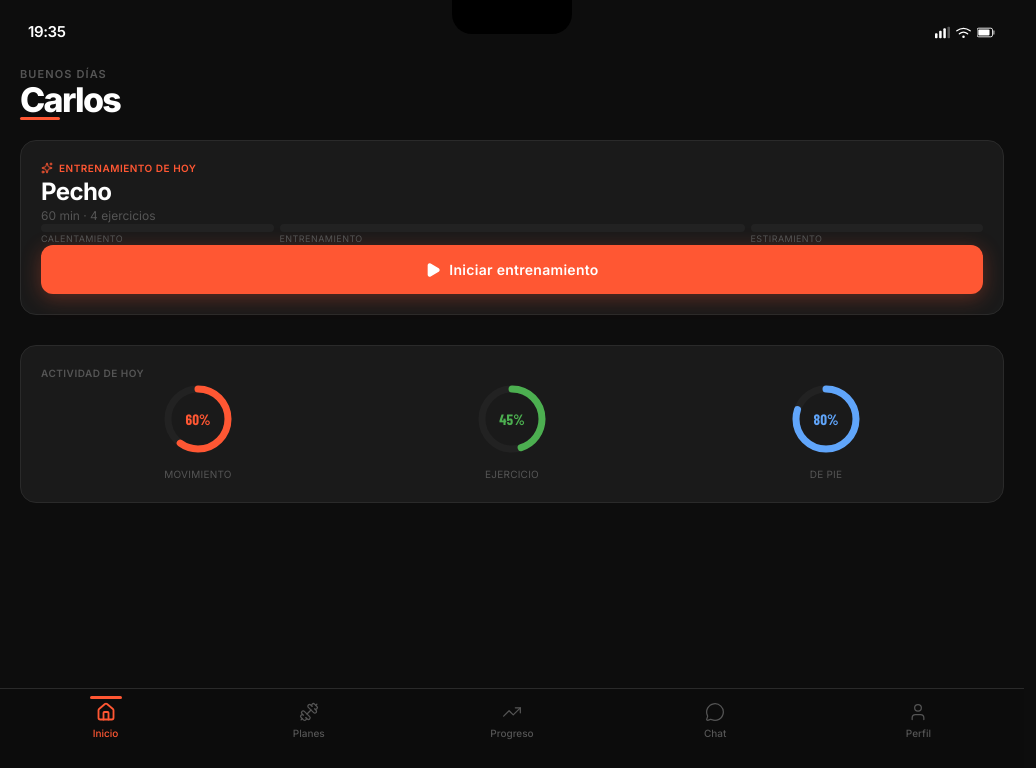
Test case: App — navegación › cambia de pantalla y marca la pestaña activa
What coordinates should you click on to do the following:
click the button "Planes"
I would click on:
 (309, 722)
Its box is 207,702 -> 410,741.
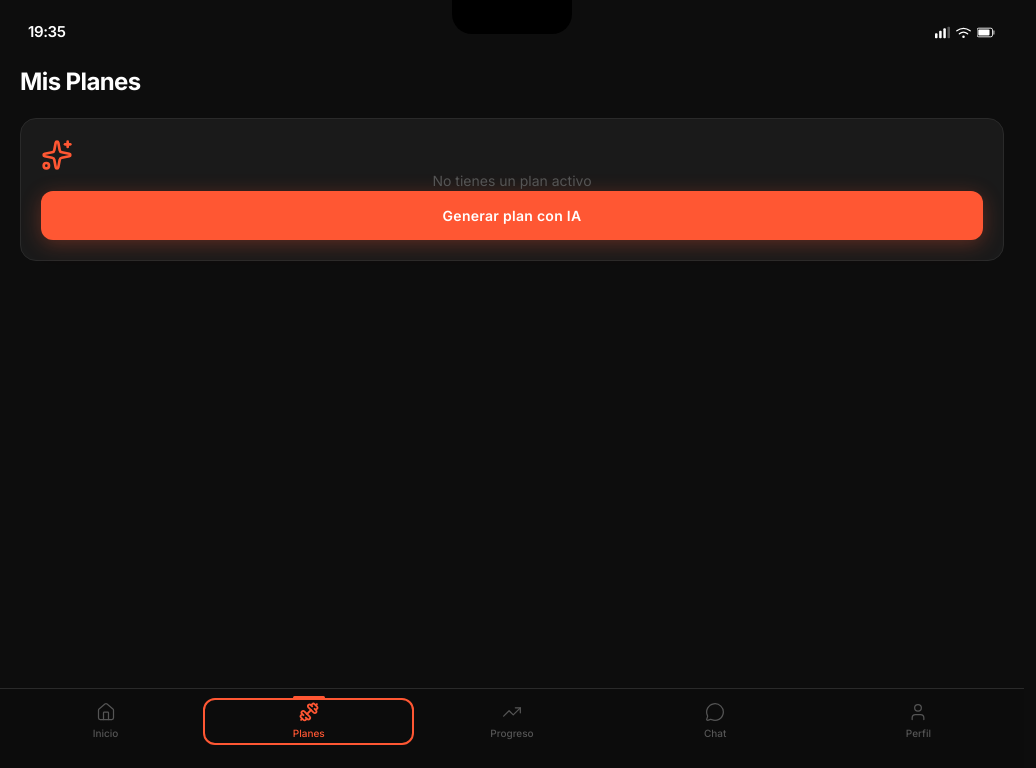
Now the heading "Mis Planes" is shown, box 20,67 -> 141,96
